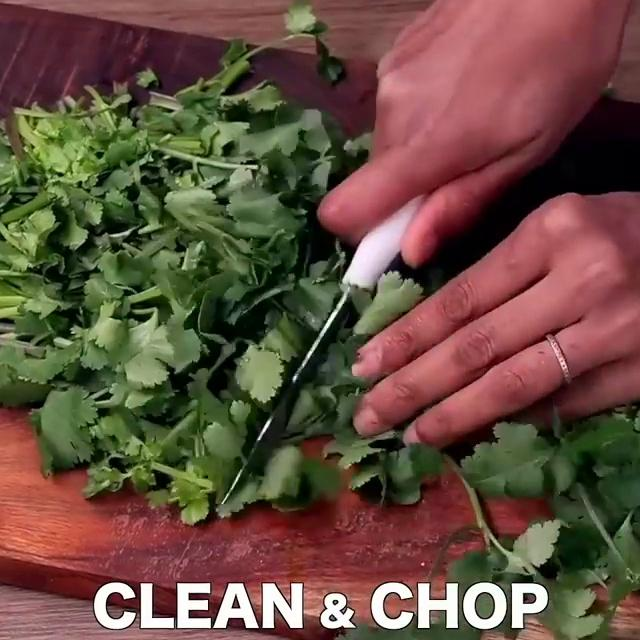cilantro: (0, 97, 283, 455), (495, 427, 640, 590)
